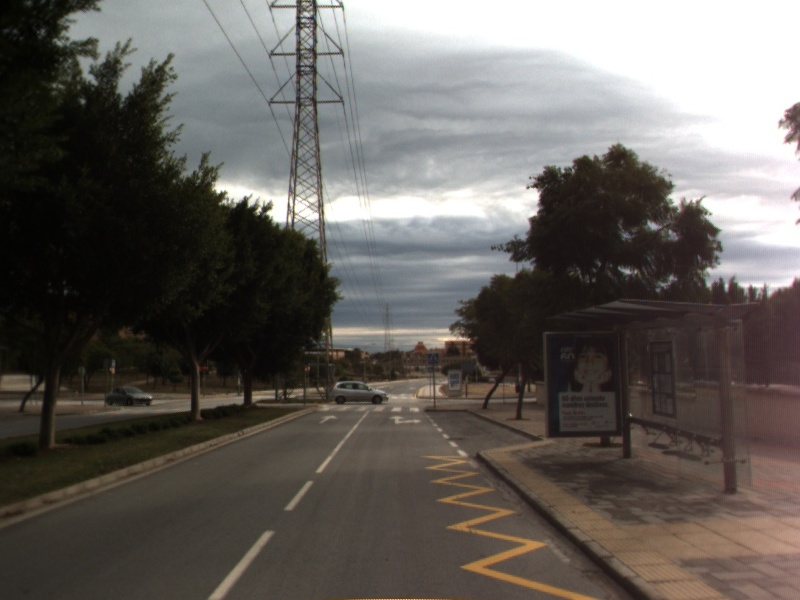STRAIGHT: (317, 413, 341, 426)
STRAIGHT_RIGHT: (387, 413, 424, 426)
